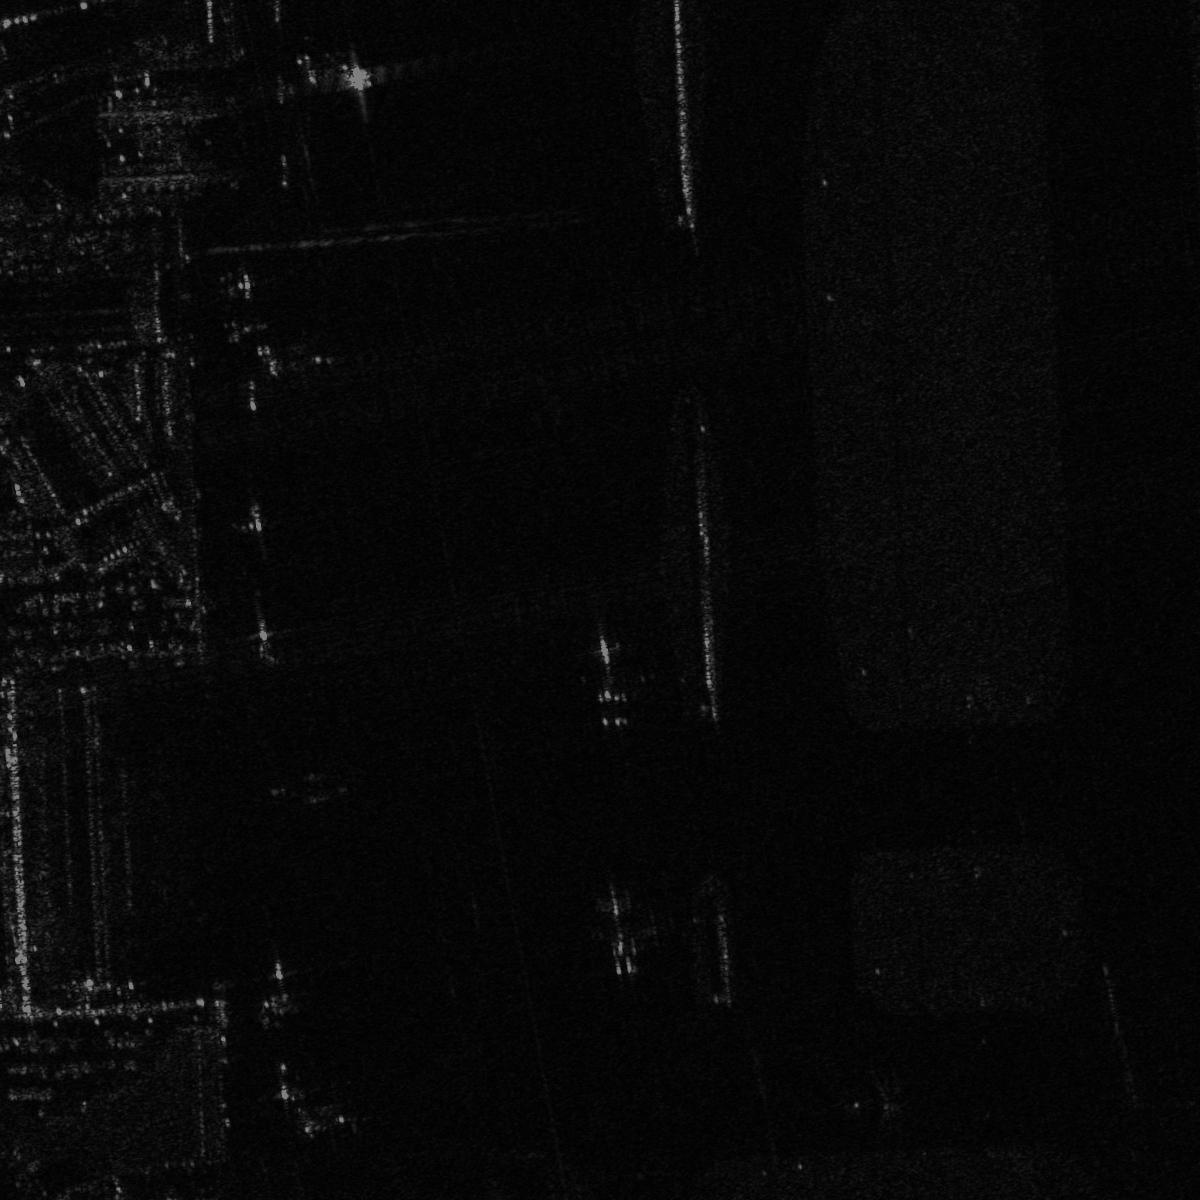A220: (281, 1073, 380, 1152)
other: (579, 623, 649, 731), (592, 881, 660, 979)
